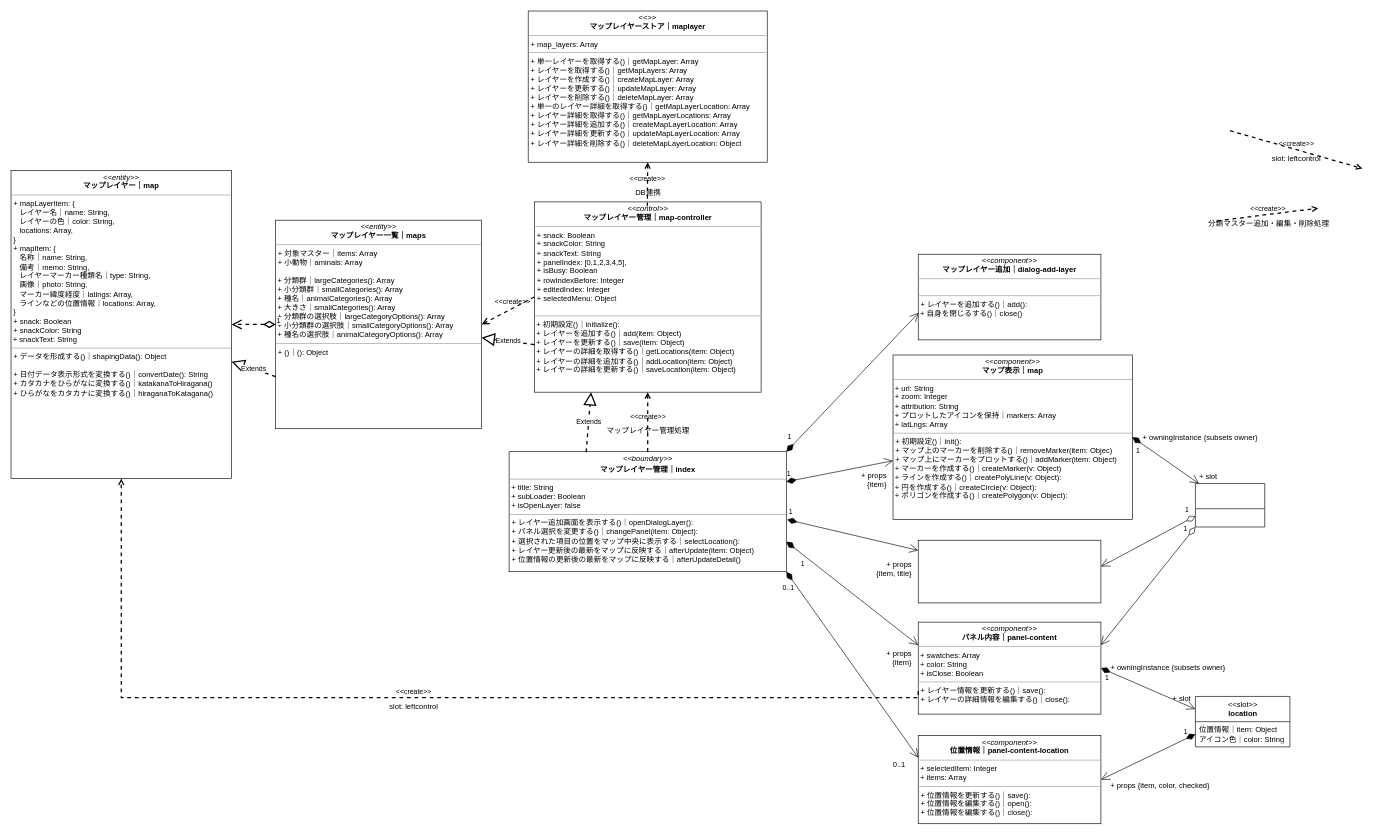
Some shapes in this 1379 by 835 pixel diagram are drawn without their labels. Each missing label, with the centre of its shape:
<< component >> パネルヘッダー｜ panel-header + パネルを選択する()｜changePanel(item: Object):: pixel 1009 571
<<slot>> leftcontrol: pixel 1230 505
